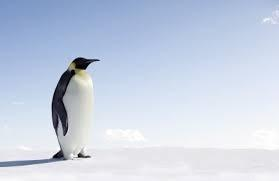emporer: (47, 55, 104, 164)
